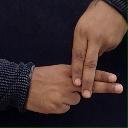hand: (70, 0, 127, 98), (23, 64, 124, 114)
